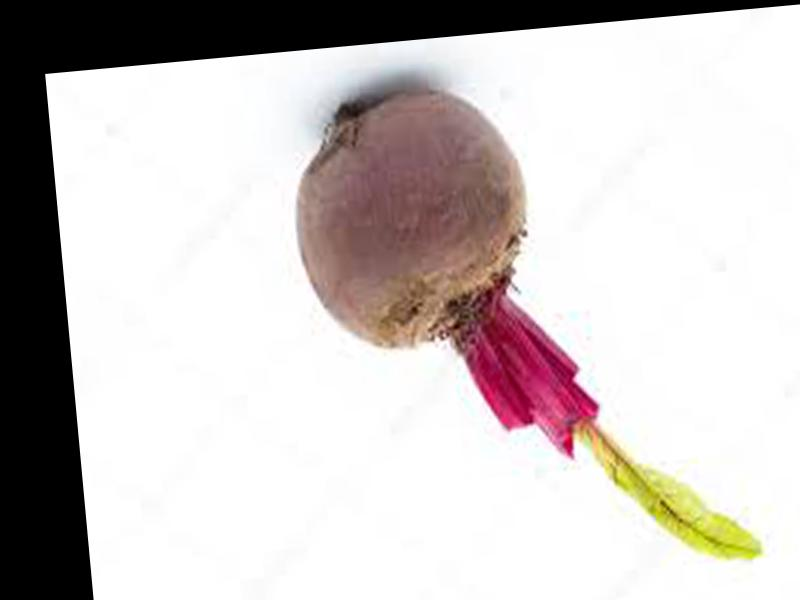Beet: (284, 64, 758, 597)
